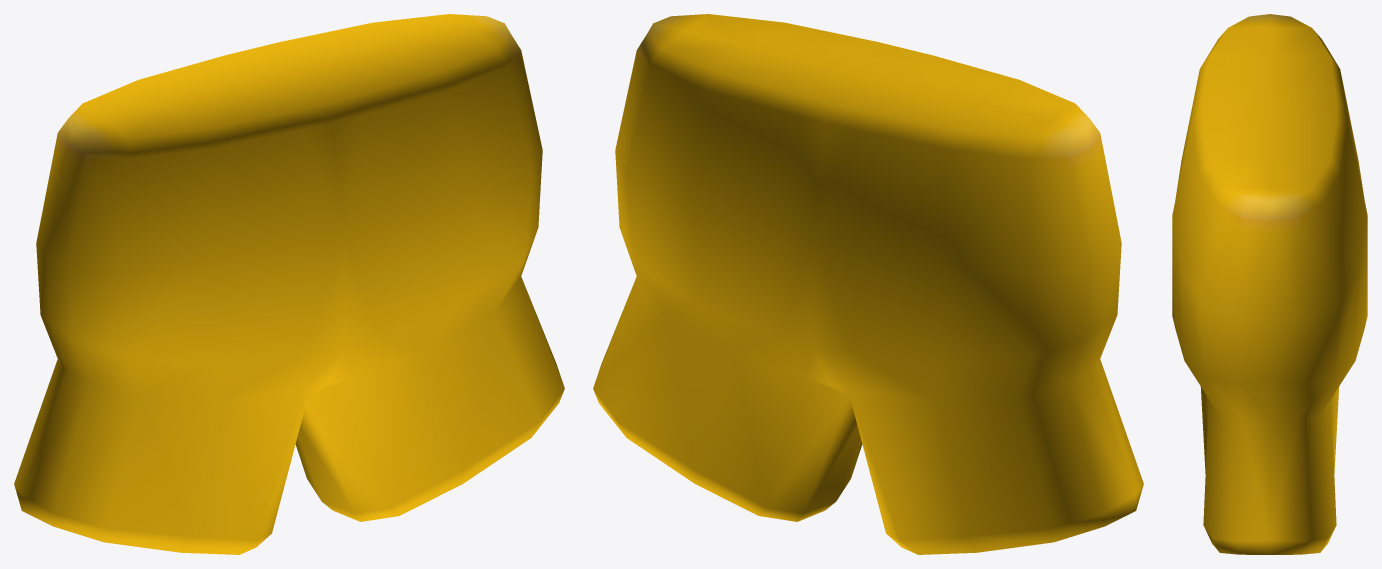
File: profile.ico.obj
3 views of the same model, side by side, from view 1: azimuth 30°, elevation 25°; view 2: azimuth 150°, elevation 25°; view 3: azimuth 270°, elevation 25° (orthographic). The views are drawn at different scales.
Bounding box in the file's own units: 3.16 × 2.51 × 1.12.
Materials: 1 (1 with a texture image).
